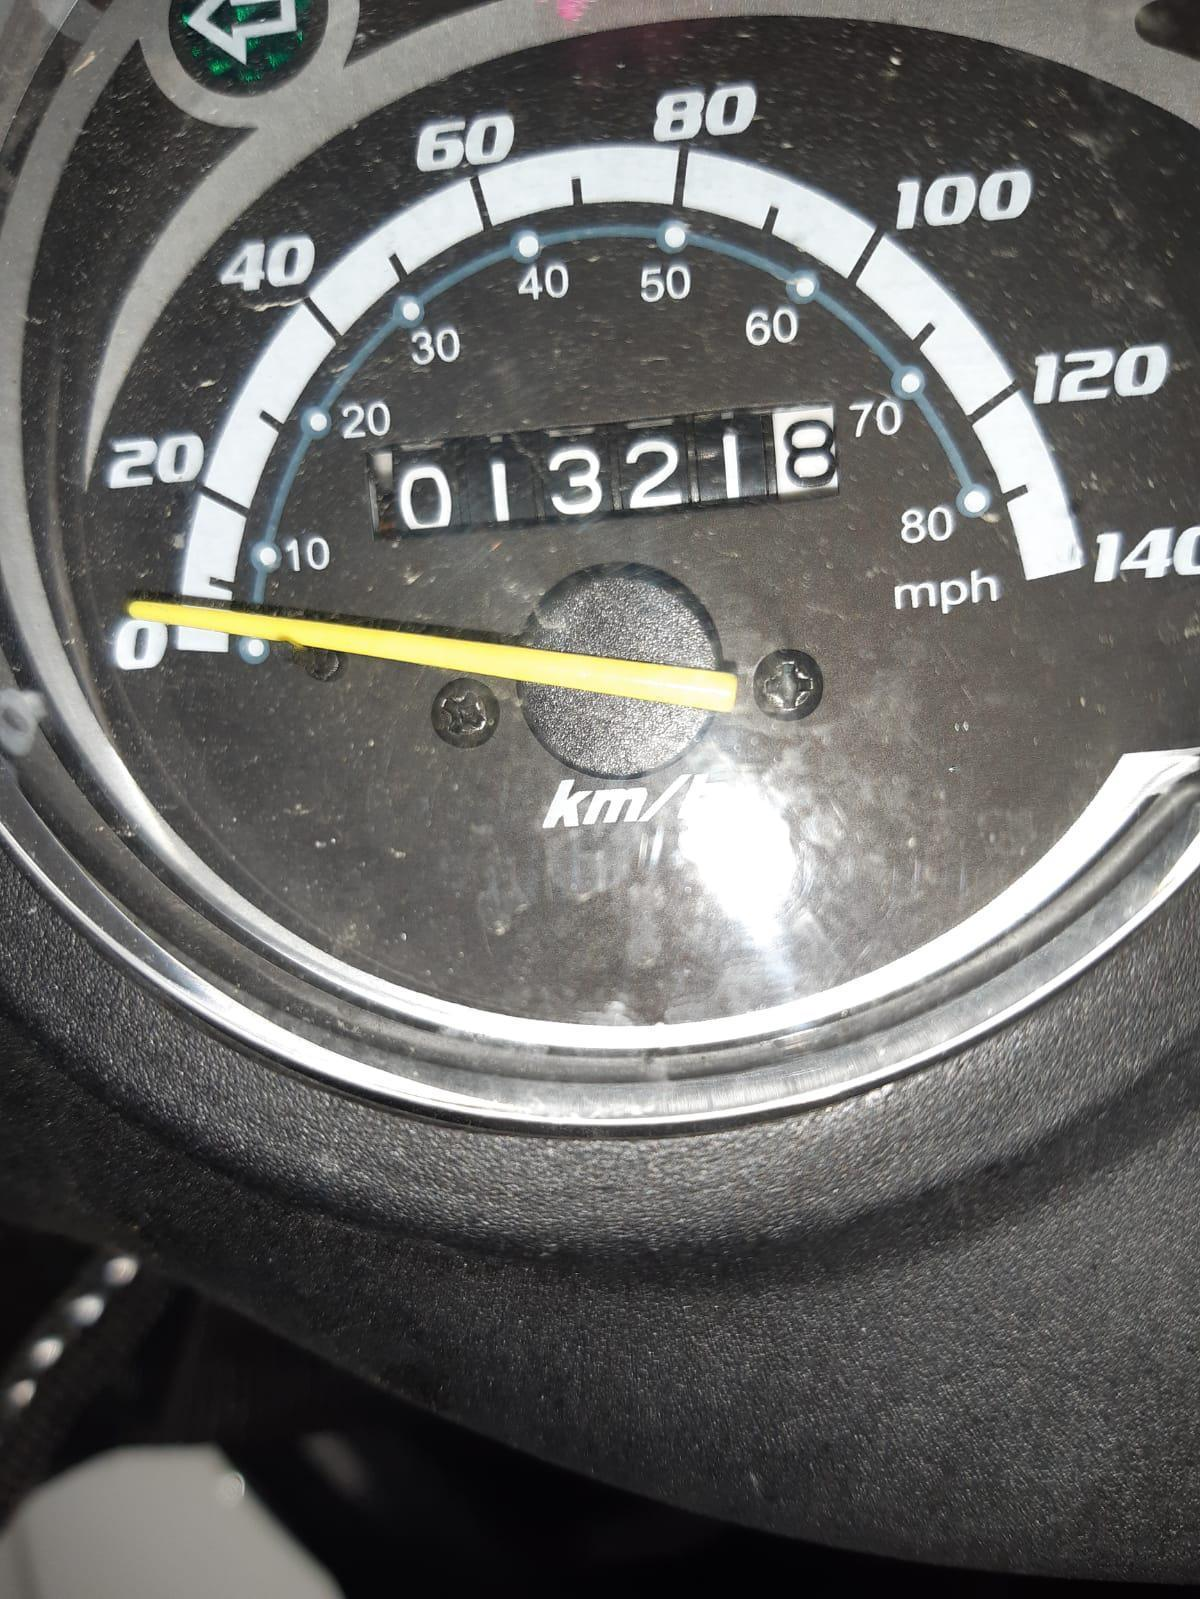0: (393, 455, 459, 541), (368, 397, 393, 436)
1: (706, 416, 750, 524), (478, 447, 521, 539)
2: (623, 433, 688, 520)
3: (545, 442, 605, 515)
8: (771, 410, 842, 510)
odometer: (361, 389, 852, 559)
